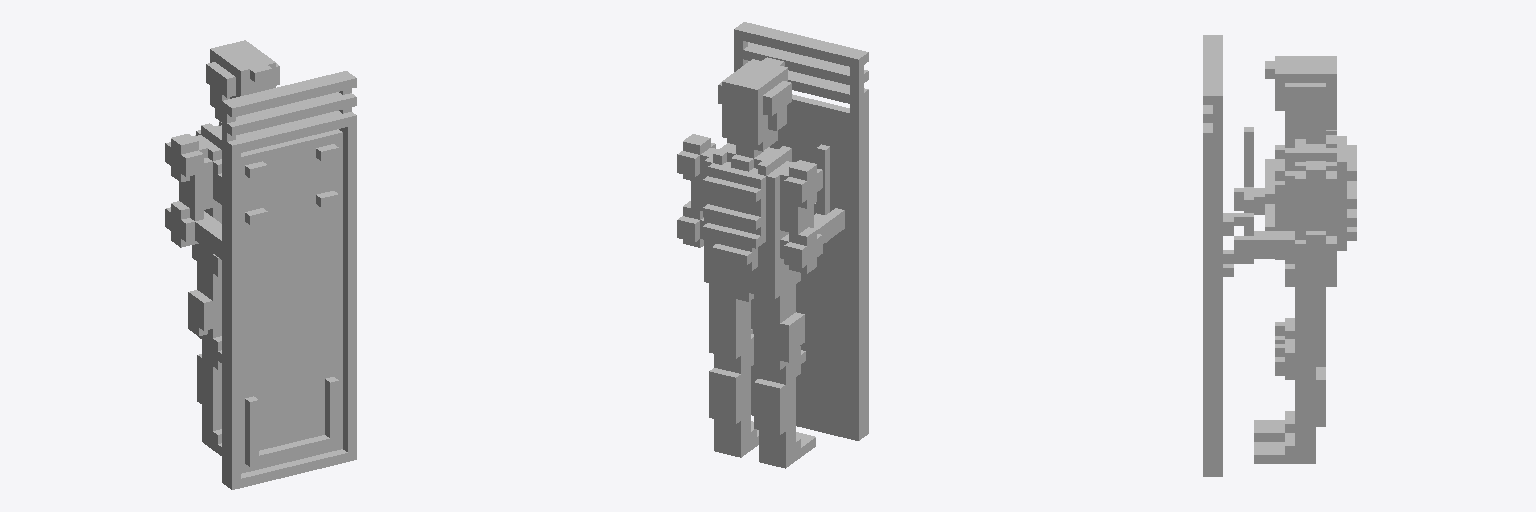
Rendered from gestapoShield.obj.
3 renders of one model, left to right at view 1: azimuth 30°, elevation 25°; view 2: azimuth 150°, elevation 25°; view 3: azimuth 270°, elevation 25°, orthographic.
Visible parts, largest first — view 1: Untitled; view 2: Untitled; view 3: Untitled.
Boxes of the visible parts, <box> form: Untitled: <box>165,40,356,489</box>; Untitled: <box>677,22,868,468</box>; Untitled: <box>1203,35,1356,476</box>.
Bounding box in the file's own units: 0.63 × 1.84 × 0.675.